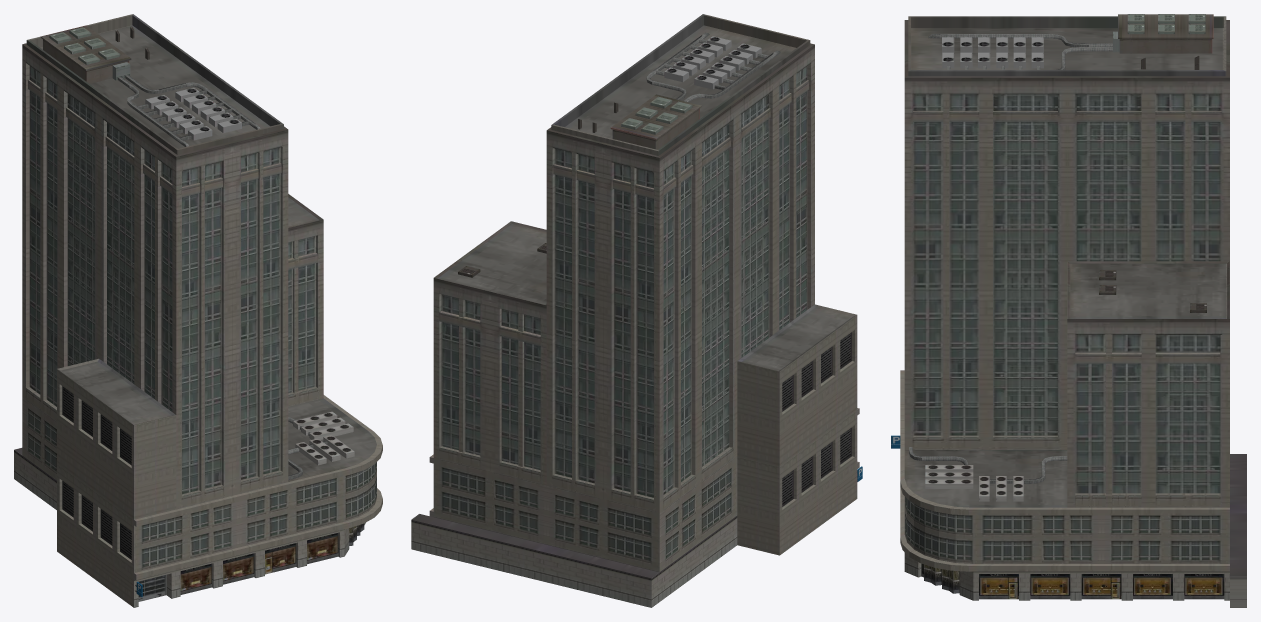
File: office-mid.glb
3 renders of one model, left to right at view 1: azimuth 30°, elevation 25°; view 2: azimuth 150°, elevation 25°; view 3: azimuth 270°, elevation 25°, orthographic. The views are drawn at different scales.
Visible parts, largest first — view 1: AIT01W2W7_b_hotr04_W2W7_t2_l1_0; view 2: AIT01W2W7_b_hotr04_W2W7_t2_l1_0; view 3: AIT01W2W7_b_hotr04_W2W7_t2_l1_0.
Part boxes in pixels (x1,y1,x2,y2): AIT01W2W7_b_hotr04_W2W7_t2_l1_0: [14, 14, 382, 607]; AIT01W2W7_b_hotr04_W2W7_t2_l1_0: [411, 14, 862, 607]; AIT01W2W7_b_hotr04_W2W7_t2_l1_0: [891, 14, 1246, 607].
Size of the model in its own units: 3200 by 4945 by 3329.
1 material, 1 textured.
